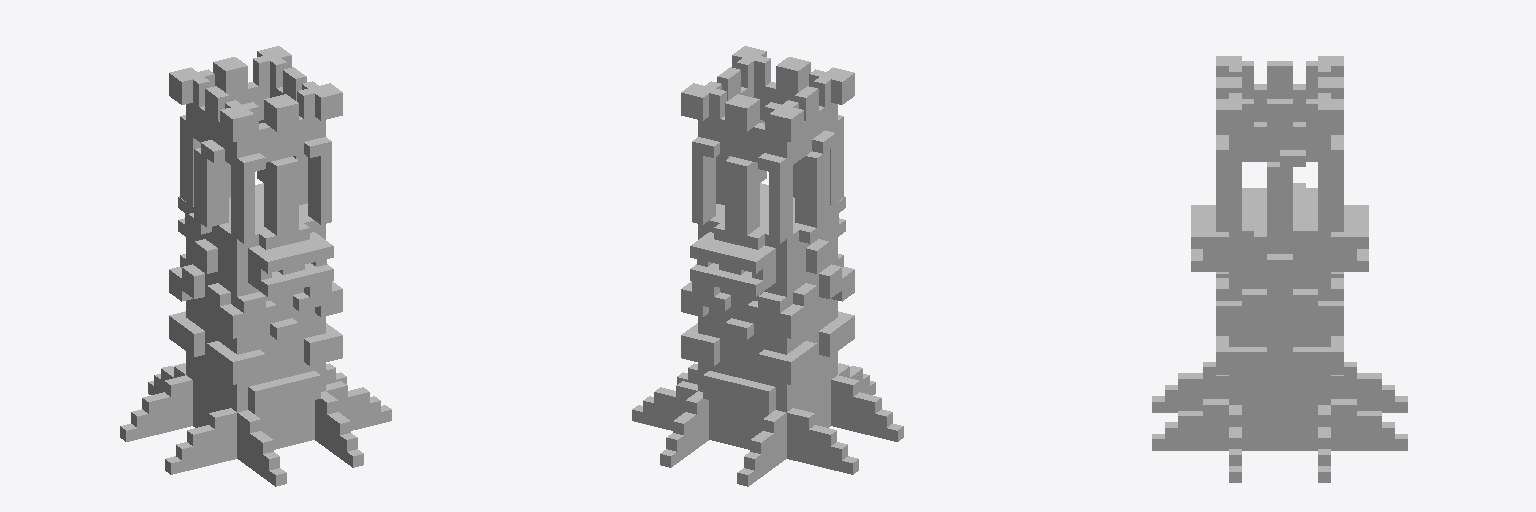
The model's file is FireTower.obj.
3 renders of one model, left to right at view 1: azimuth 30°, elevation 25°; view 2: azimuth 150°, elevation 25°; view 3: azimuth 270°, elevation 25°, orthographic.
Visible parts, largest first — view 1: object 1; view 2: object 1; view 3: object 1.
Boxes of the visible parts, x1=… form: object 1: x1=120, y1=46, x2=391, y2=486; object 1: x1=632, y1=46, x2=903, y2=486; object 1: x1=1152, y1=56, x2=1407, y2=482.
Size of the model in its own units: 2 by 3 by 2.